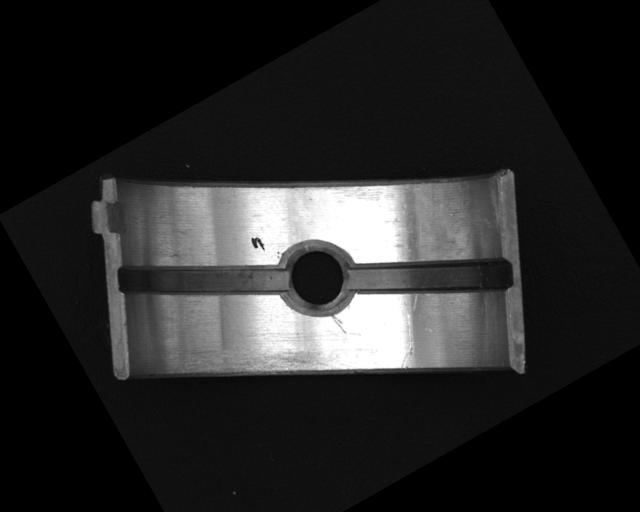blot: (248, 232, 267, 254)
gap: (110, 199, 291, 359), (344, 200, 518, 352)
hole: (265, 226, 369, 330)
nick: (378, 310, 433, 370), (330, 312, 348, 336)
scratch: (170, 299, 331, 437)
